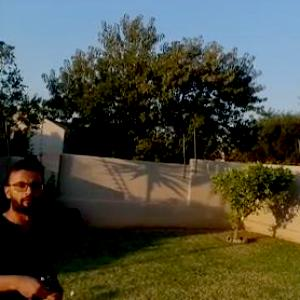follow: (0, 156, 74, 299)
